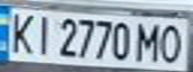0: (112, 19, 136, 62)
2: (54, 15, 78, 58)
7: (93, 17, 115, 61), (75, 16, 96, 60)
I: (30, 11, 57, 56)
K: (3, 9, 39, 55)
M: (136, 19, 163, 63)
O: (157, 20, 187, 64)
